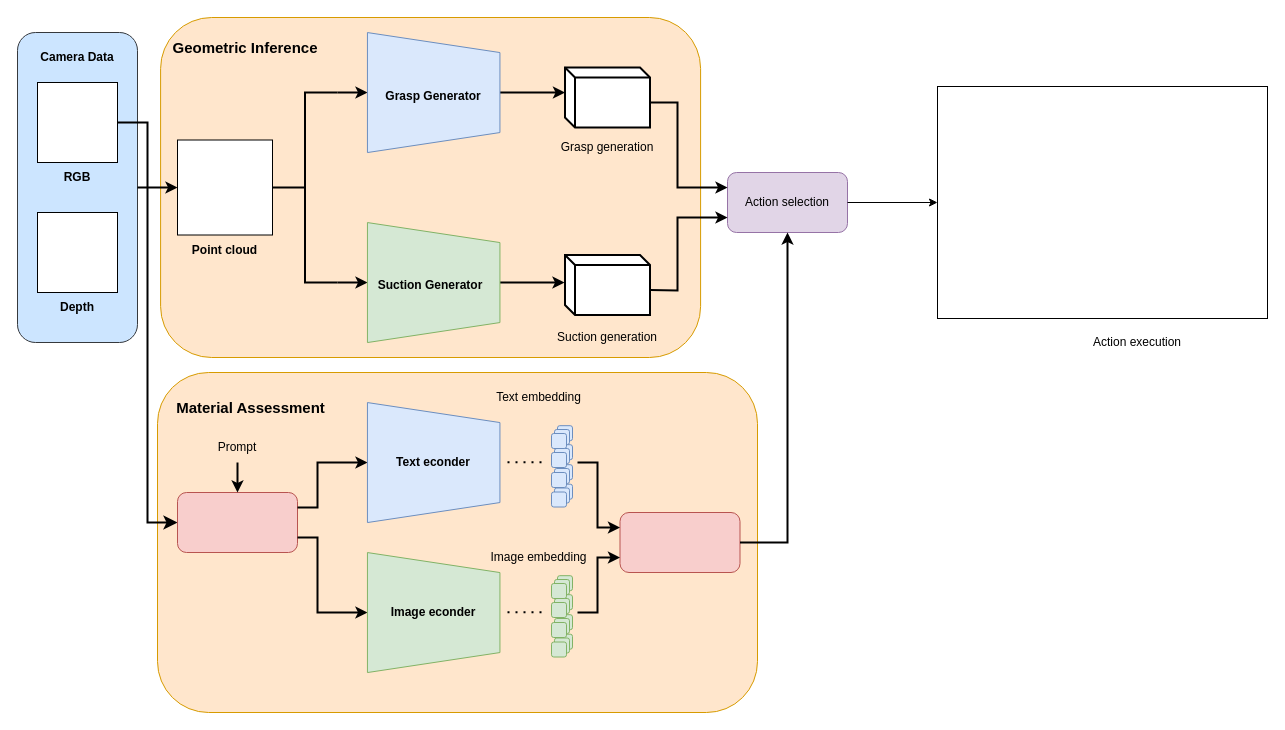
Image size: 1285x730. Some labels were removed from this diagram. Each missing label, with the centre of its shape:
classifier: the point at 679,542
LLM: the point at 237,522
